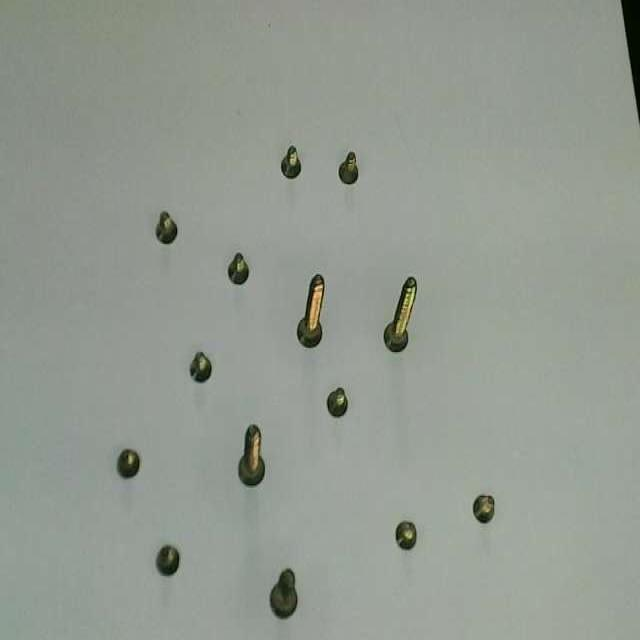Parafuso: (384, 278, 416, 351), (297, 275, 324, 347), (238, 426, 264, 486), (270, 568, 297, 618), (155, 212, 177, 243), (338, 151, 358, 185), (156, 546, 179, 575), (117, 448, 139, 478), (281, 146, 301, 178), (190, 352, 211, 382), (228, 254, 248, 285), (327, 387, 347, 417), (473, 495, 494, 523), (395, 522, 416, 549)
